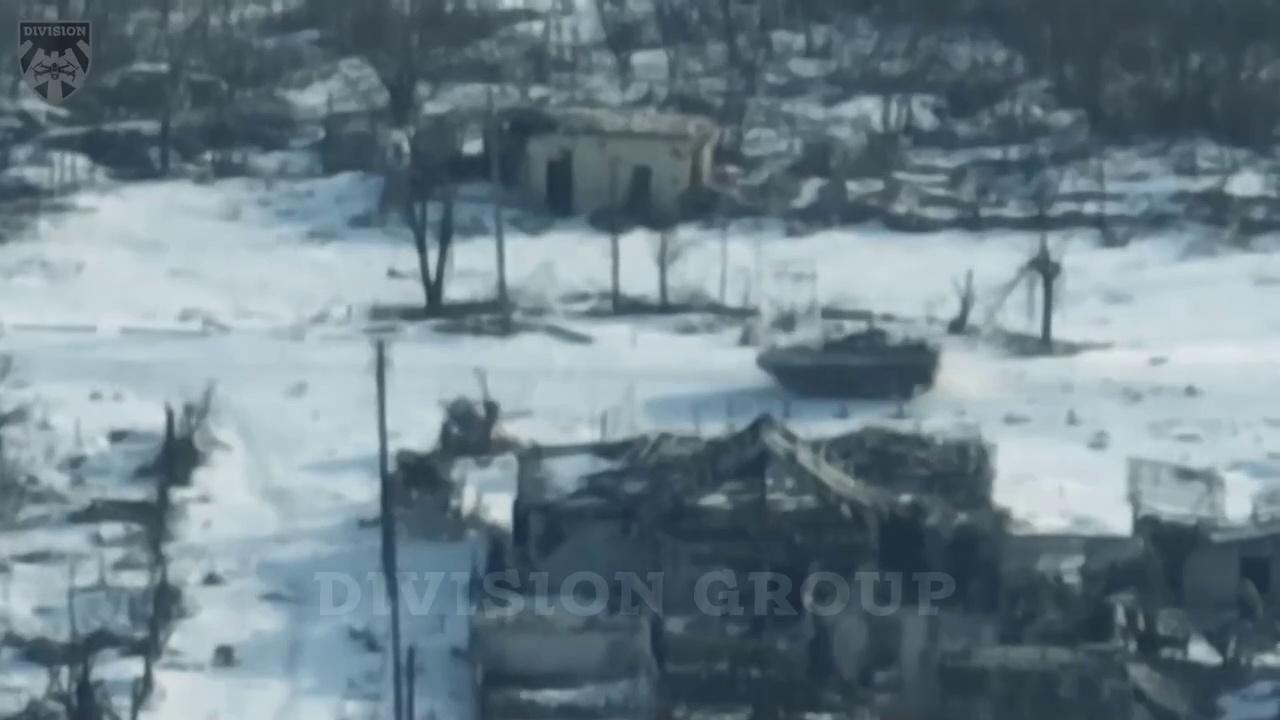vehicle: (760, 328, 940, 402)
